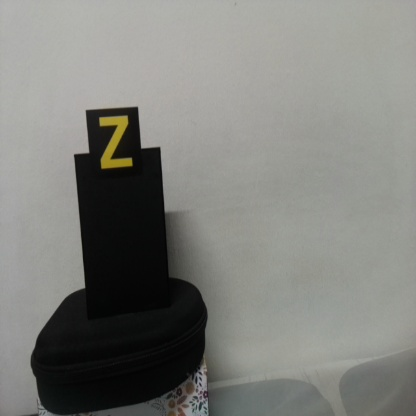id_15: (87, 110, 140, 181)
